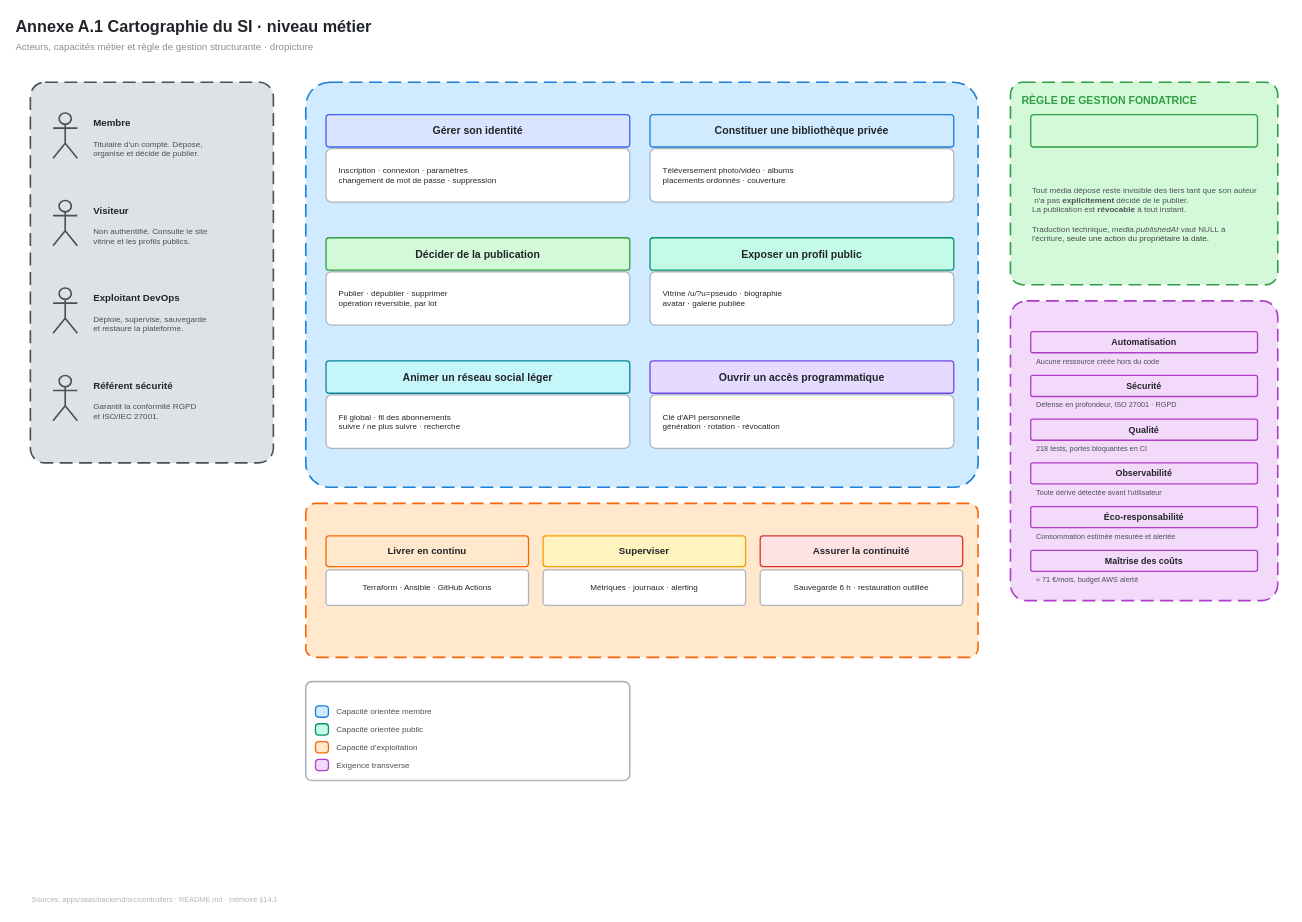
Some shapes in this 1302 by 922 pixel diagram are drawn without their labels. The shapes that lost their labels are listed below. From the top down, each one's box as (x1, y1, x2, y2) in pixels, then its label:
(1030, 114, 1258, 147): Privé par défaut
(29, 81, 274, 463): ACTEURS
(305, 81, 978, 488): CAPACITÉS MÉTIER
(1009, 300, 1278, 601): EXIGENCES TRANSVERSES
(305, 502, 978, 658): EXPLOITATION & CONFORMITÉ
(305, 680, 630, 781): Légende
